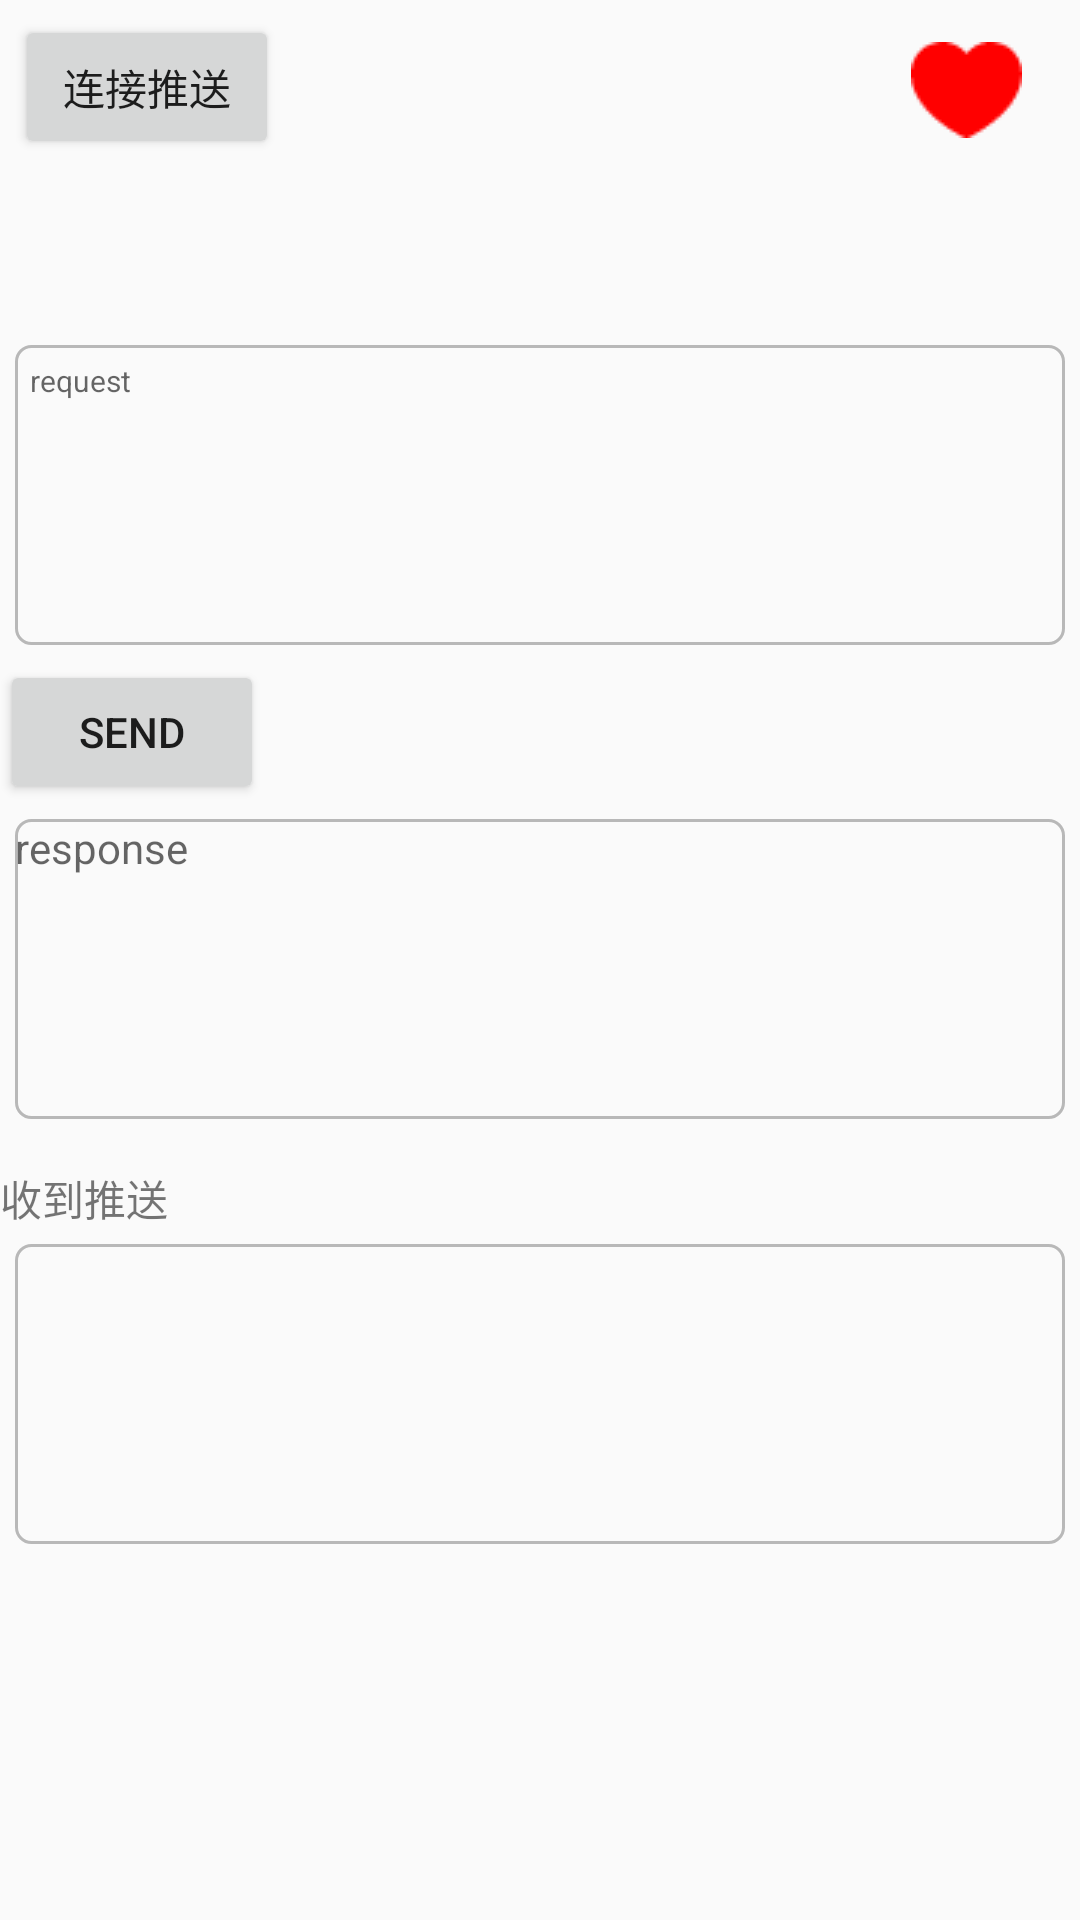

Where to tap for icons on this 1080*1920 app screen, as (x,y):
heart: (966,90)
